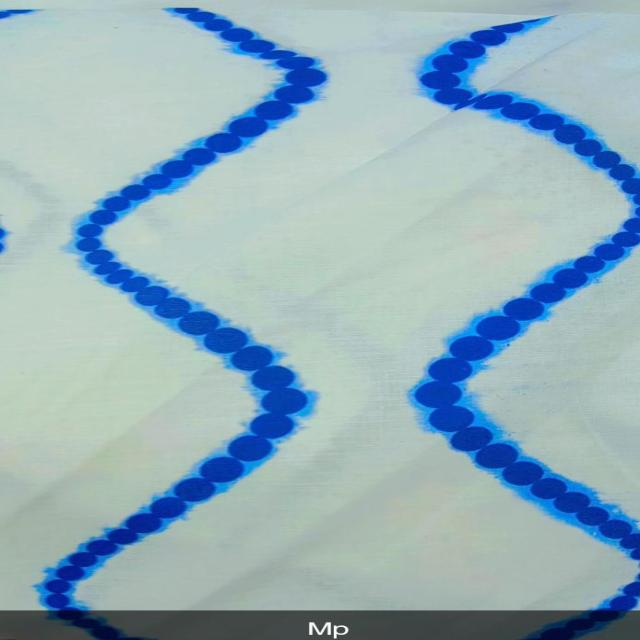color issues: (70, 0, 343, 640), (416, 0, 640, 625)
